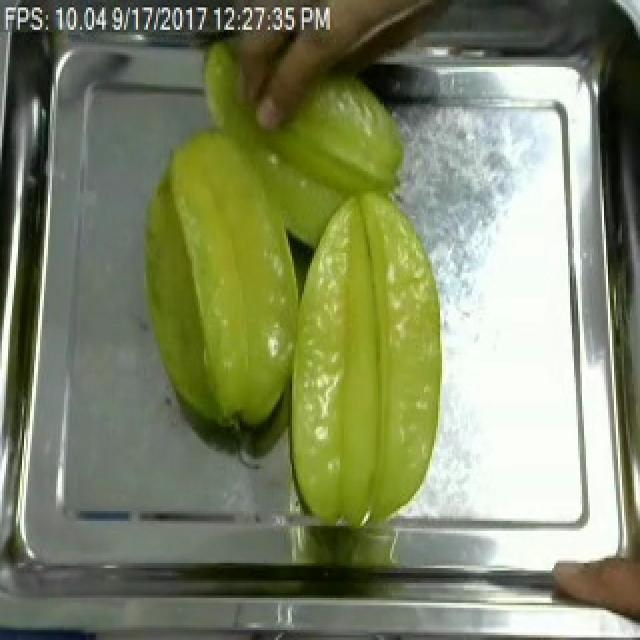fruit: (274, 179, 458, 543), (132, 117, 314, 444)
